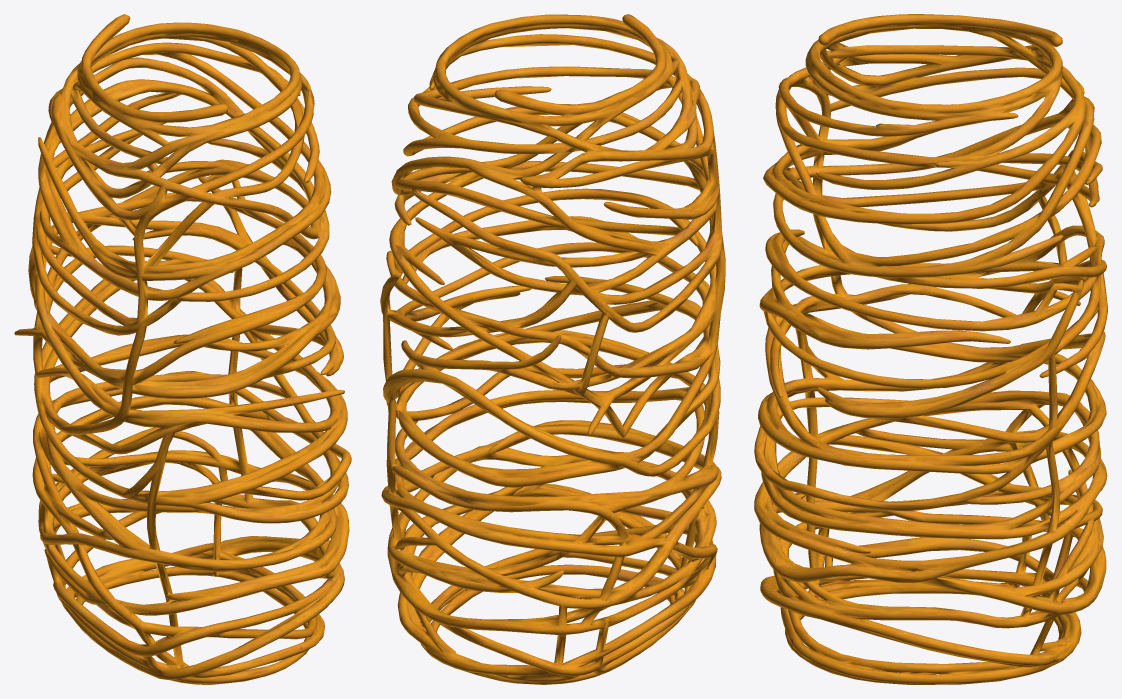
The model's file is bk-decor-caramel-spiral.glb.
3 renders of one model, left to right at view 1: azimuth 30°, elevation 25°; view 2: azimuth 150°, elevation 25°; view 3: azimuth 270°, elevation 25°, orthographic. The views are drawn at different scales.
Parts seen in each view (by area): view 1: node_0; view 2: node_0; view 3: node_0.
Boxes of the visible parts, x1,y1,x2,y2 form: node_0: [14, 14, 351, 684]; node_0: [380, 14, 725, 684]; node_0: [754, 14, 1107, 684].
Bounding box in the file's own units: 0.5026 × 1.1 × 0.5908.
Materials: 1 (1 with a texture image).
